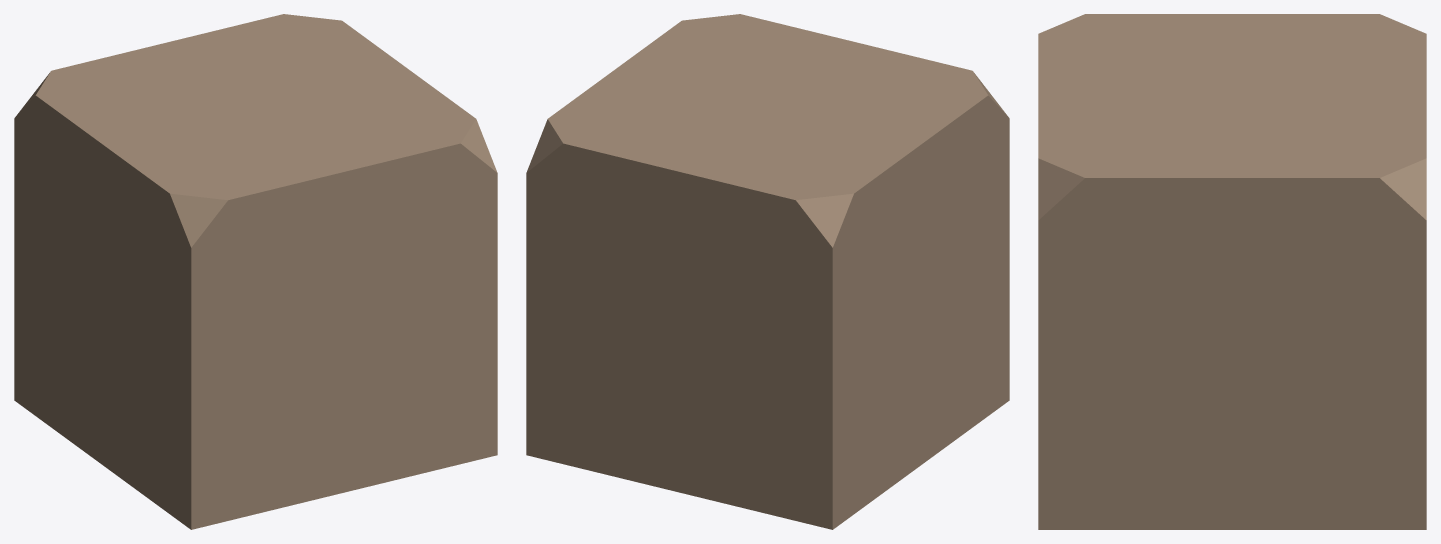
File: Tile_Rock.fbx
3 renders of one model, left to right at view 1: azimuth 30°, elevation 25°; view 2: azimuth 150°, elevation 25°; view 3: azimuth 270°, elevation 25°, orthographic. The views are drawn at different scales.
Parts seen in each view (by area): view 1: TIle_Rock; view 2: TIle_Rock; view 3: TIle_Rock.
Boxes of the visible parts, x1,y1,x2,y2 form: TIle_Rock: (14,14,497,529); TIle_Rock: (526,14,1009,529); TIle_Rock: (1038,14,1426,529).
Bounding box in the file's own units: 5 × 5 × 5.
